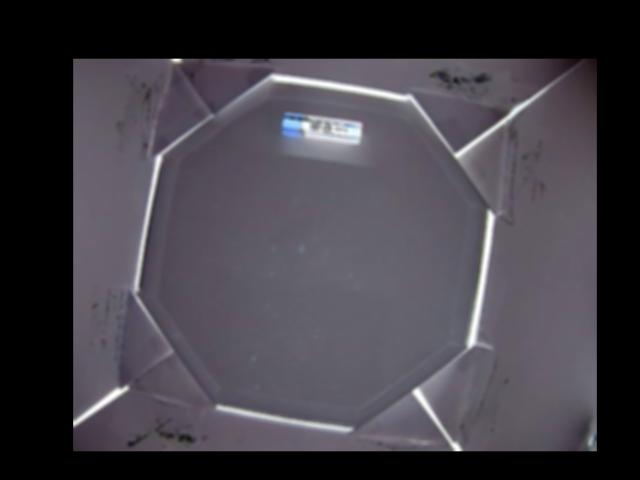Battery: (281, 111, 361, 143)
